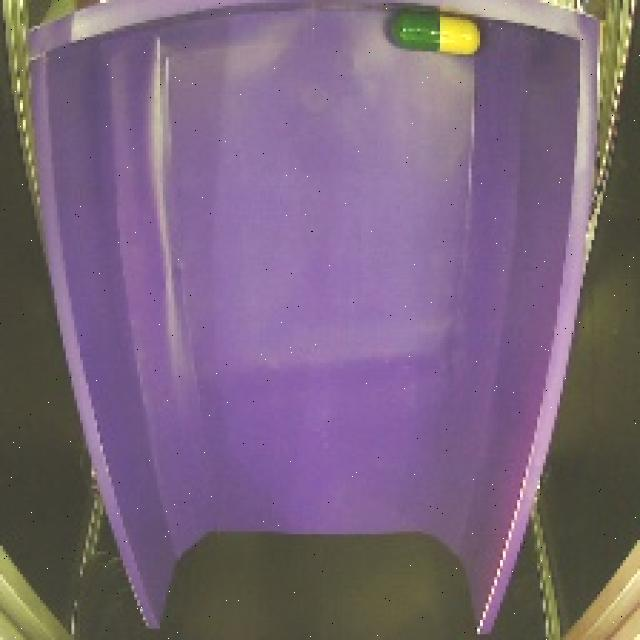small: (381, 4, 486, 66)
